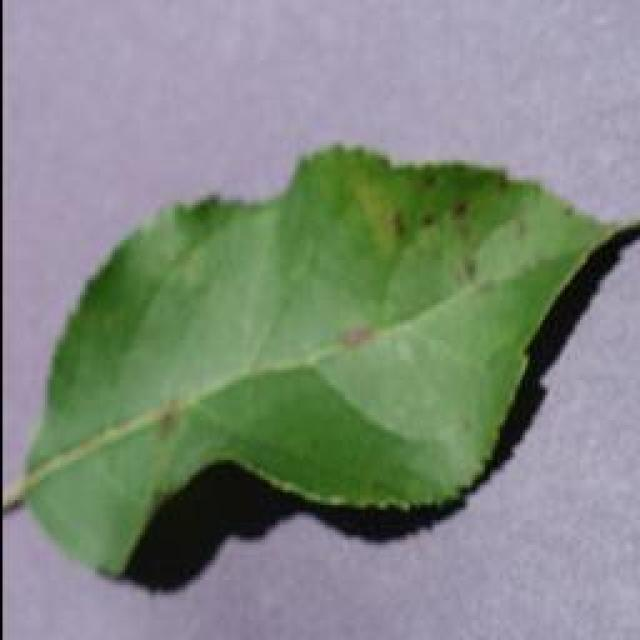apple scab disease: (13, 138, 635, 588)
